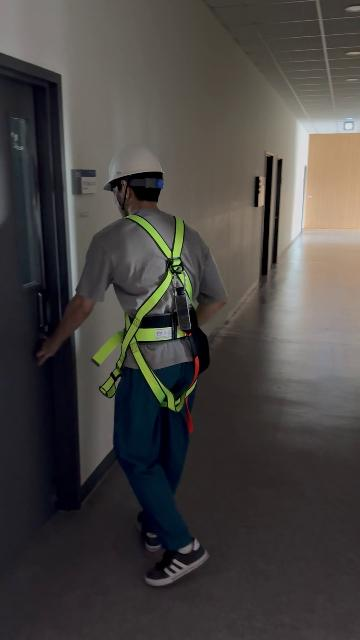helmet_worn: (104, 143, 168, 192)
shoe_not_worn: (146, 543, 210, 588), (134, 509, 163, 551)
vest_worn: (99, 216, 208, 409)
